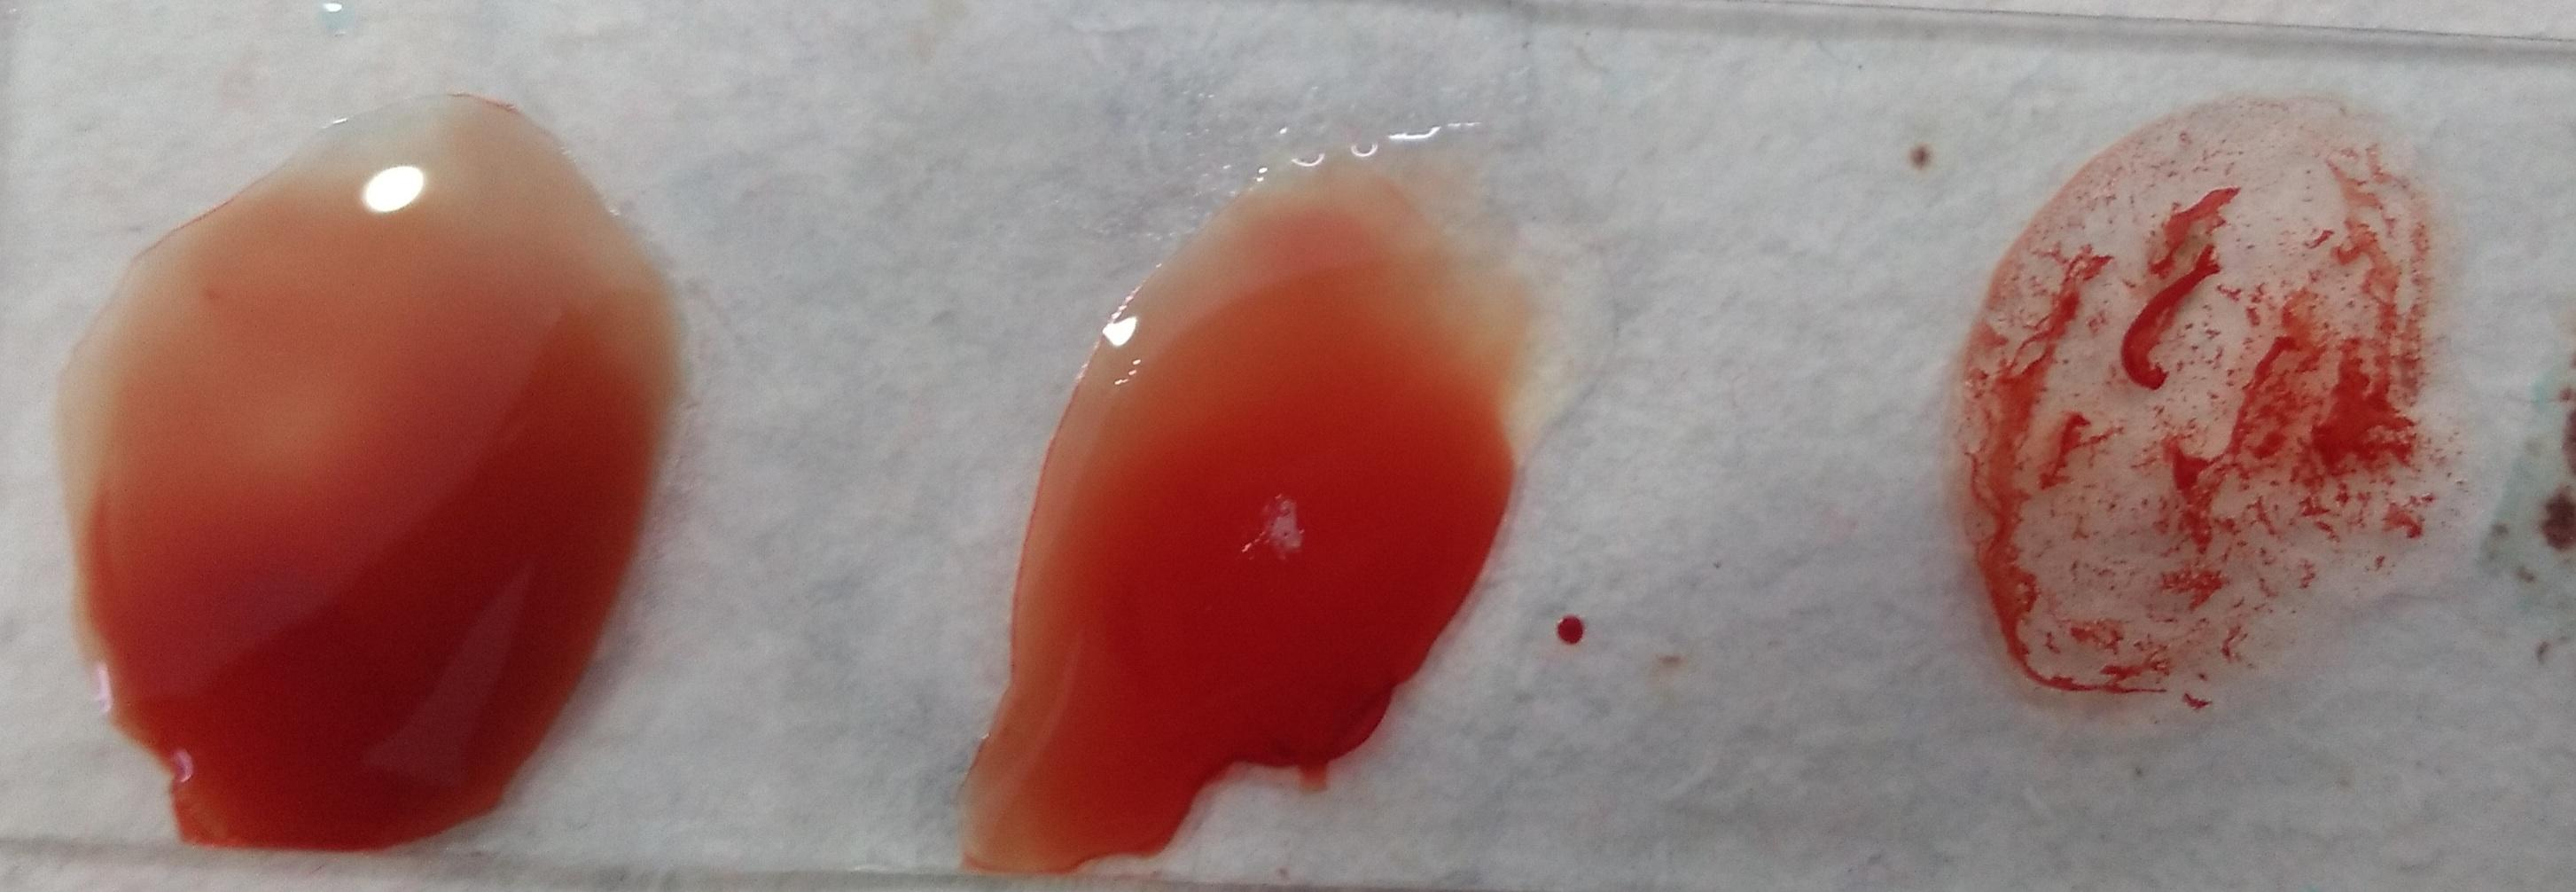D: (122, 154, 626, 797)
